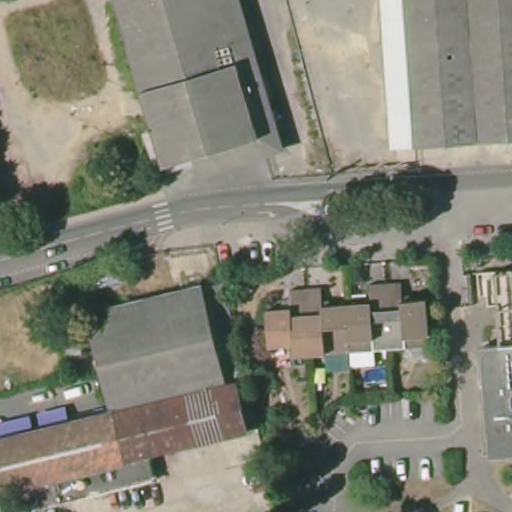pool: (363, 364, 391, 391)
